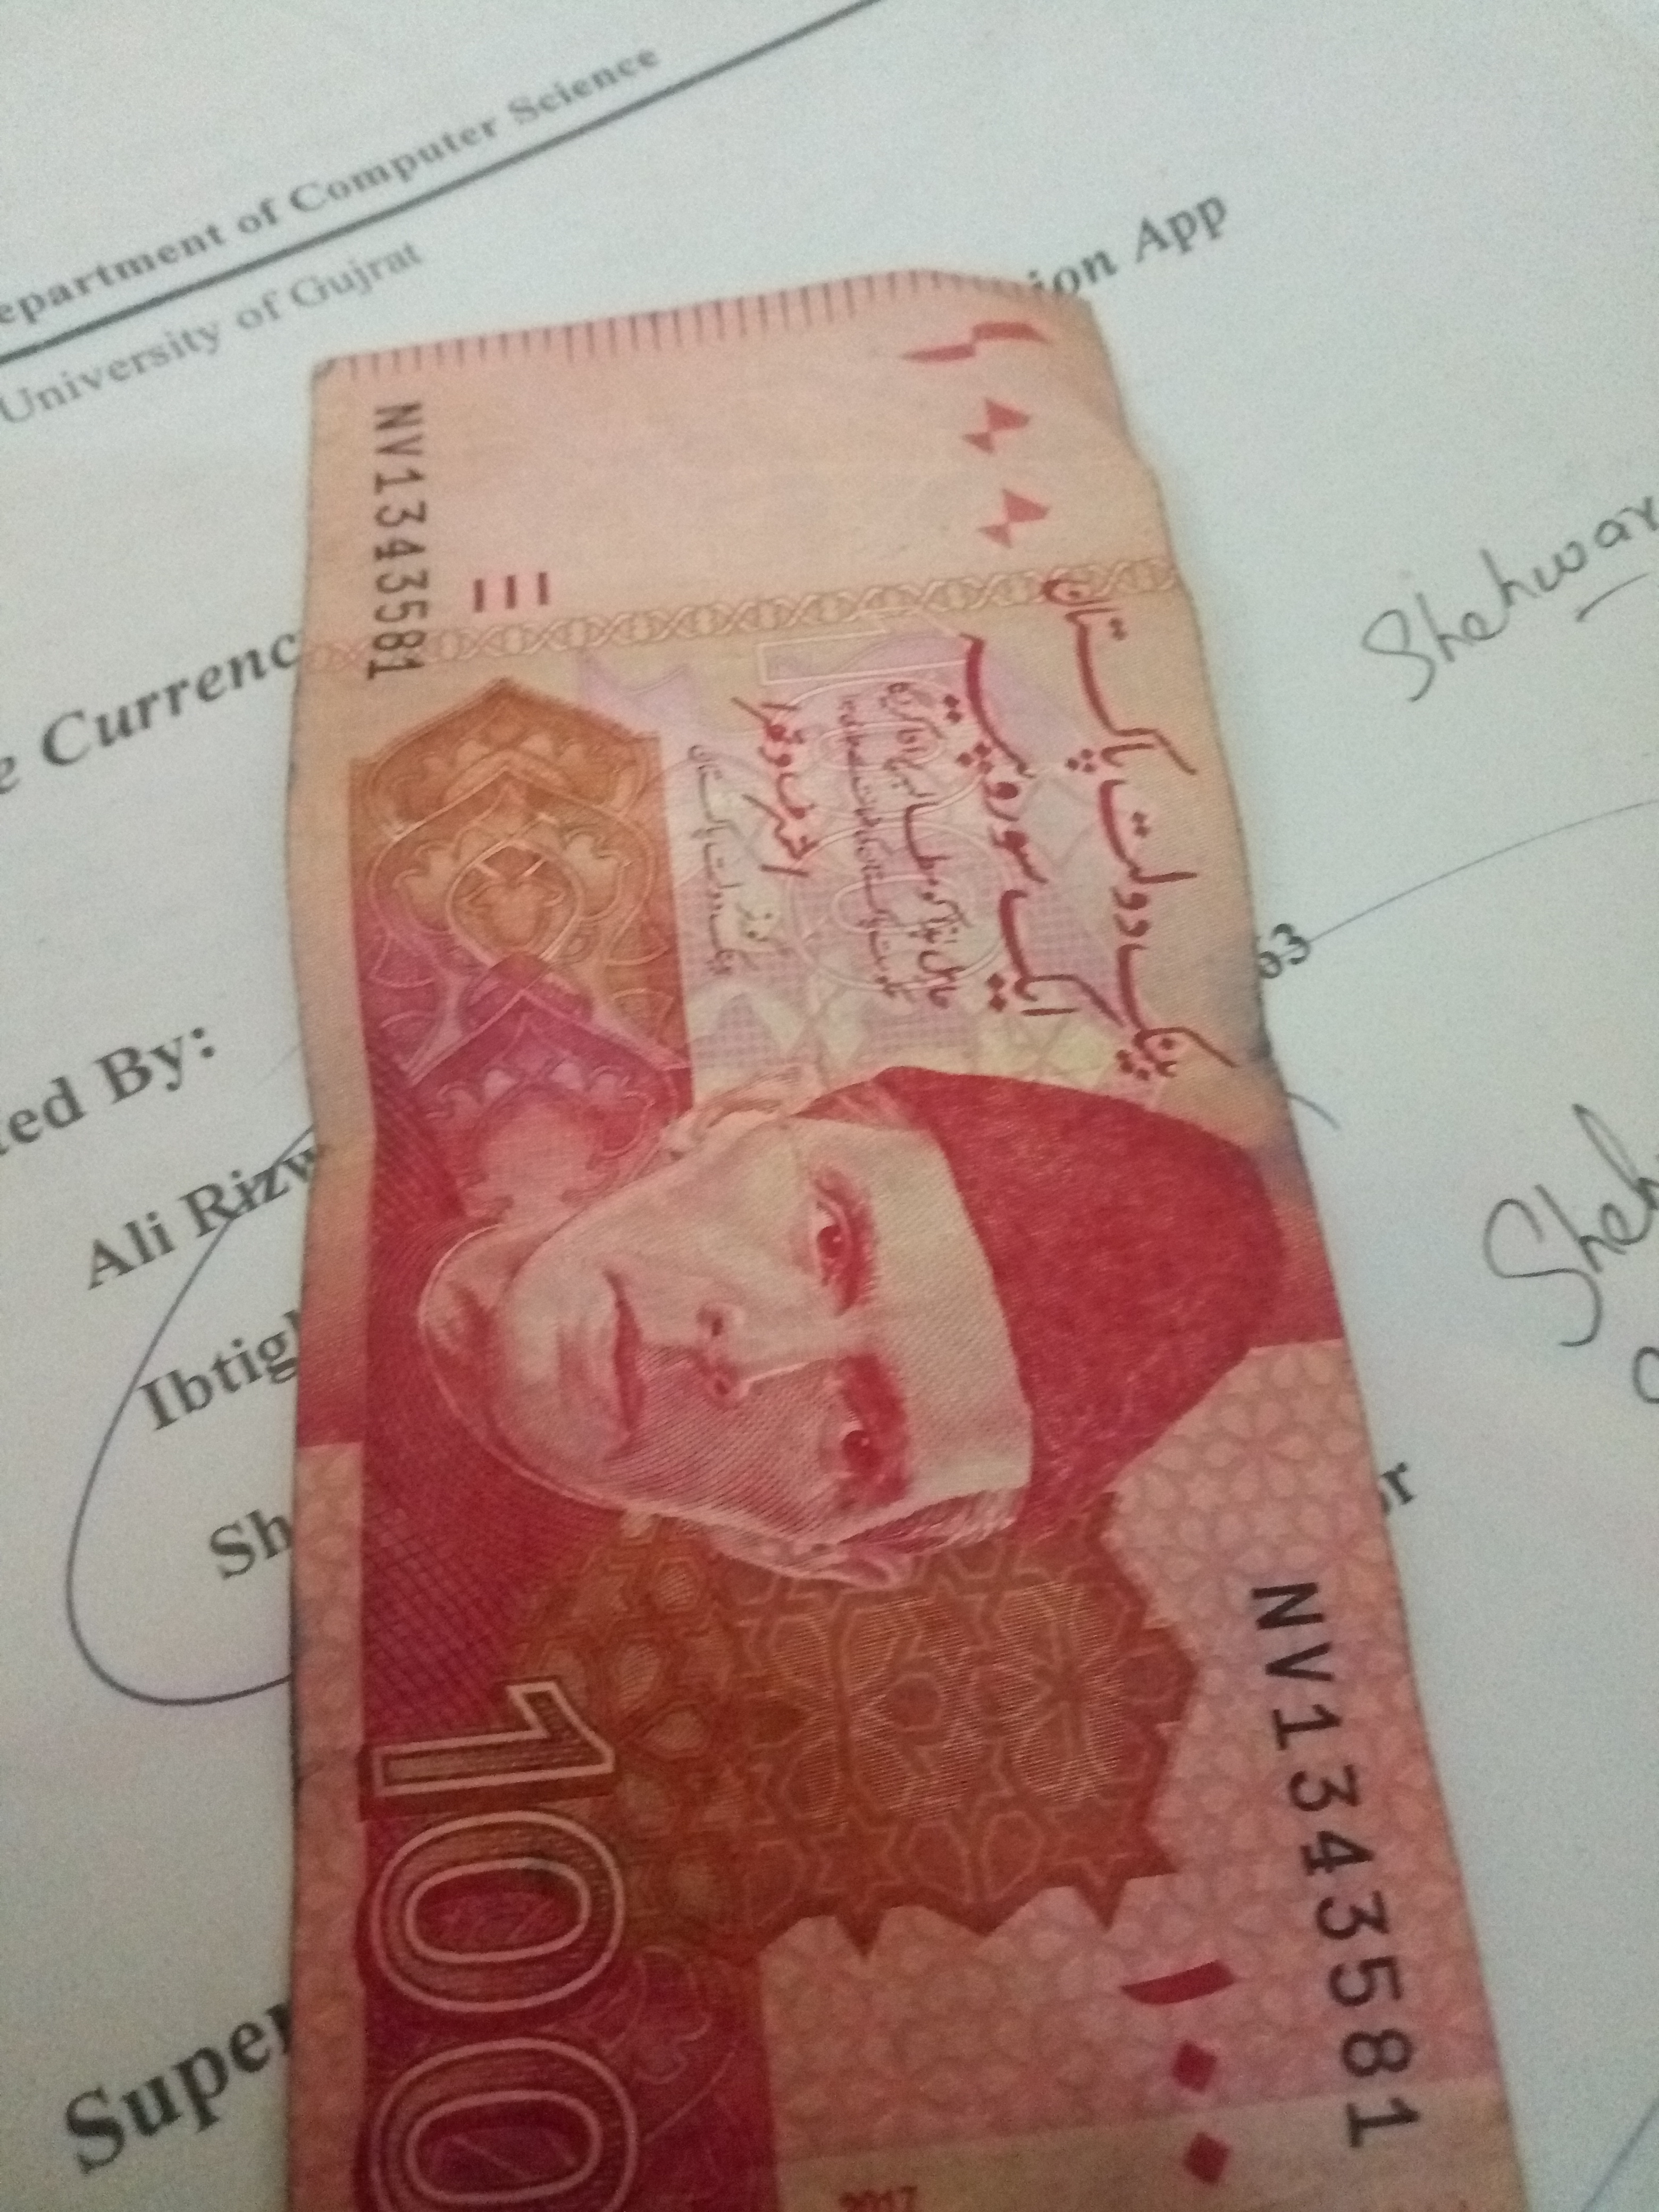100 rupee: (284, 282, 1549, 2212)
